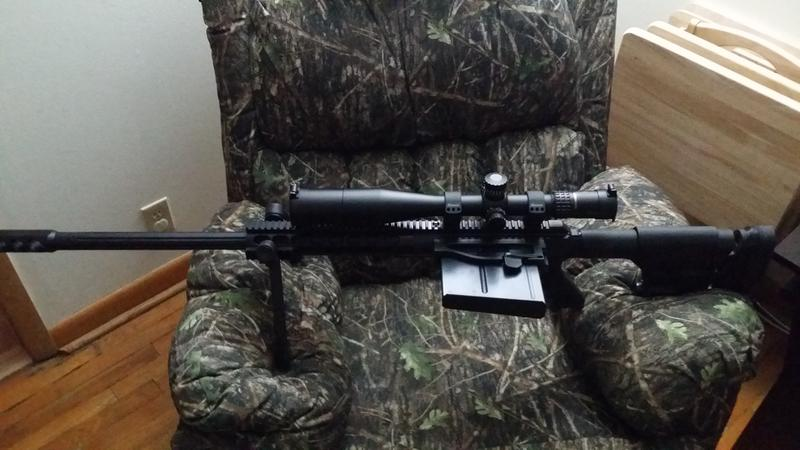Rifle: (1, 173, 773, 317)
